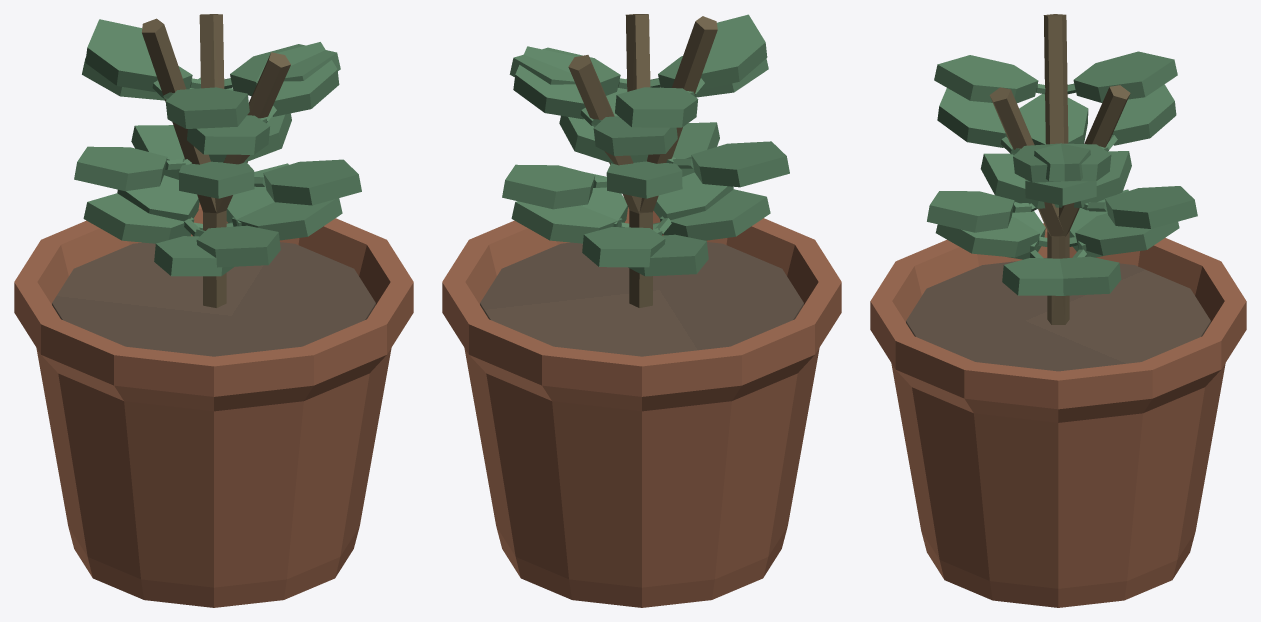
File: jade.glb
3 renders of one model, left to right at view 1: azimuth 30°, elevation 25°; view 2: azimuth 150°, elevation 25°; view 3: azimuth 270°, elevation 25°, orthographic. The views are drawn at different scales.
Parts seen in each view (by area): view 1: jade/review-terra-vessel, jade/review-rooted-soil, jade/leaf-024, jade/leaf-033, jade/leaf-020, jade/stem-014, jade/leaf-005, jade/leaf-026, jade/leaf-018, jade/leaf-003, jade/stem-027, jade/leaf-039 (+10 smaller); view 2: jade/review-terra-vessel, jade/review-rooted-soil, jade/leaf-020, jade/leaf-007, jade/leaf-026, jade/leaf-029, jade/stem-014, jade/leaf-024, jade/leaf-016, jade/leaf-011, jade/leaf-031, jade/stem-001 (+10 smaller); view 3: jade/review-terra-vessel, jade/review-rooted-soil, jade/stem-014, jade/leaf-024, jade/leaf-026, jade/leaf-007, jade/leaf-033, jade/leaf-037, jade/leaf-016, jade/leaf-018, jade/leaf-013, jade/stem-027 (+11 smaller).
Boxes of the visible parts, x1,y1,x2,y2 form: jade/review-terra-vessel: (14, 202, 413, 607); jade/review-rooted-soil: (52, 242, 375, 356); jade/leaf-024: (85, 19, 157, 92); jade/leaf-033: (263, 159, 361, 205); jade/leaf-020: (74, 146, 167, 191); jade/stem-014: (141, 18, 226, 307); jade/leaf-005: (83, 193, 194, 243); jade/leaf-026: (165, 87, 249, 128); jade/leaf-018: (196, 225, 280, 267); jade/leaf-003: (231, 198, 342, 240); jade/stem-027: (203, 52, 290, 307); jade/leaf-039: (256, 42, 339, 116); jade/review-terra-vessel: (442, 207, 841, 607); jade/review-rooted-soil: (480, 242, 803, 356); jade/leaf-020: (691, 141, 789, 187); jade/leaf-007: (502, 164, 595, 209); jade/leaf-026: (700, 14, 767, 89); jade/leaf-029: (659, 189, 770, 240); jade/stem-014: (629, 16, 717, 307); jade/leaf-024: (615, 87, 698, 127); jade/leaf-016: (582, 227, 665, 267); jade/leaf-011: (513, 46, 585, 119); jade/leaf-031: (511, 201, 622, 243); jade/stem-001: (568, 55, 652, 307); jade/review-terra-vessel: (870, 223, 1246, 607); jade/review-rooted-soil: (906, 257, 1210, 371); jade/stem-014: (1043, 14, 1069, 324); jade/leaf-024: (1073, 51, 1177, 102); jade/leaf-026: (934, 55, 1038, 103); jade/leaf-007: (1105, 186, 1197, 228); jade/leaf-033: (927, 191, 1014, 232); jade/leaf-037: (937, 88, 1007, 147); jade/leaf-016: (1075, 213, 1179, 255); jade/leaf-018: (935, 217, 1039, 257); jade/leaf-013: (1112, 84, 1176, 145); jade/stem-027: (989, 87, 1065, 321).
Size of the model in its own units: 0.19 by 0.2846 by 0.19.
4 materials, 4 textured.
